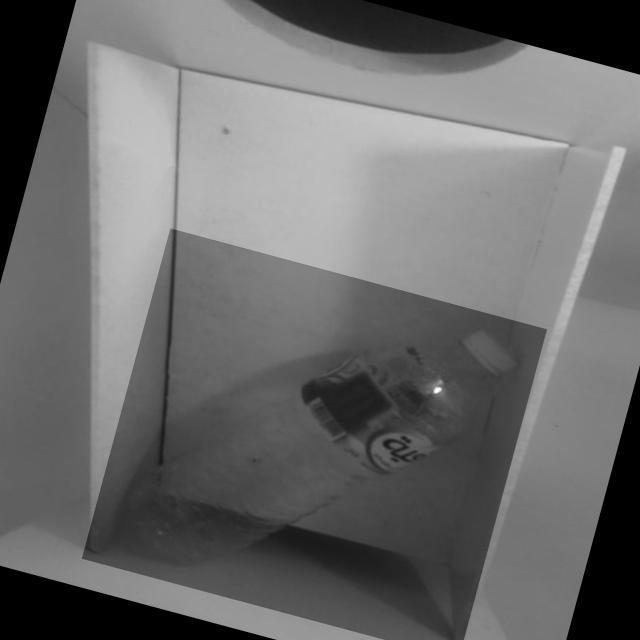good: (80, 227, 545, 640)
